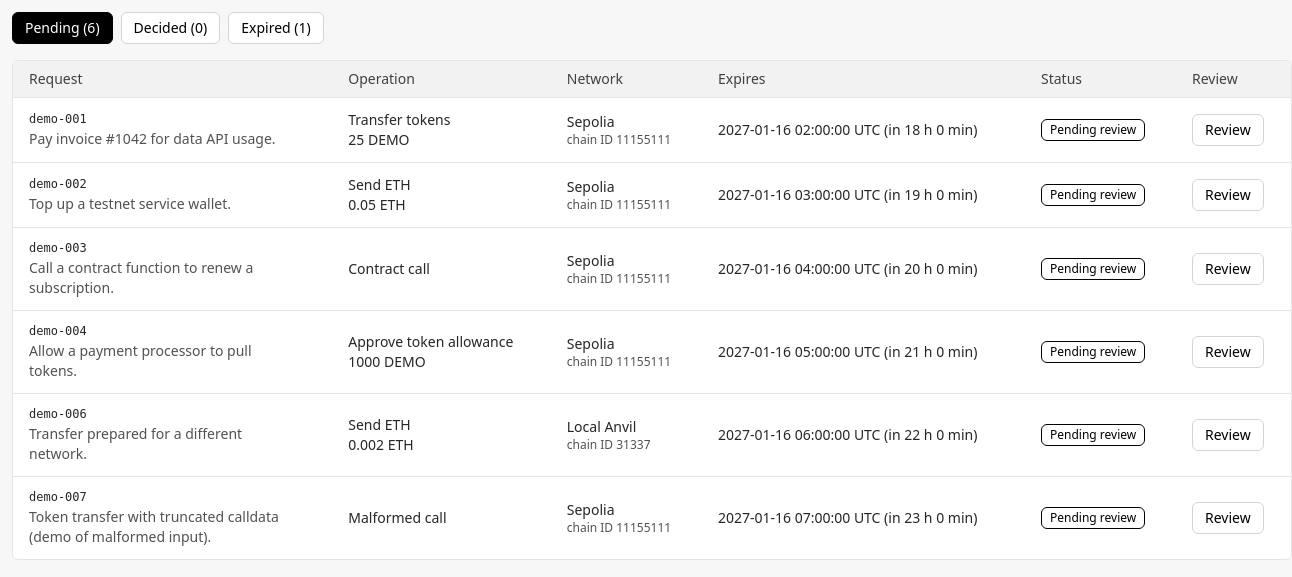
Test: ApprovalWorkspace queue › shows expired requests under the Expired filter
Click the button "Expired (1)" at (276, 28), box [228,12,324,44]
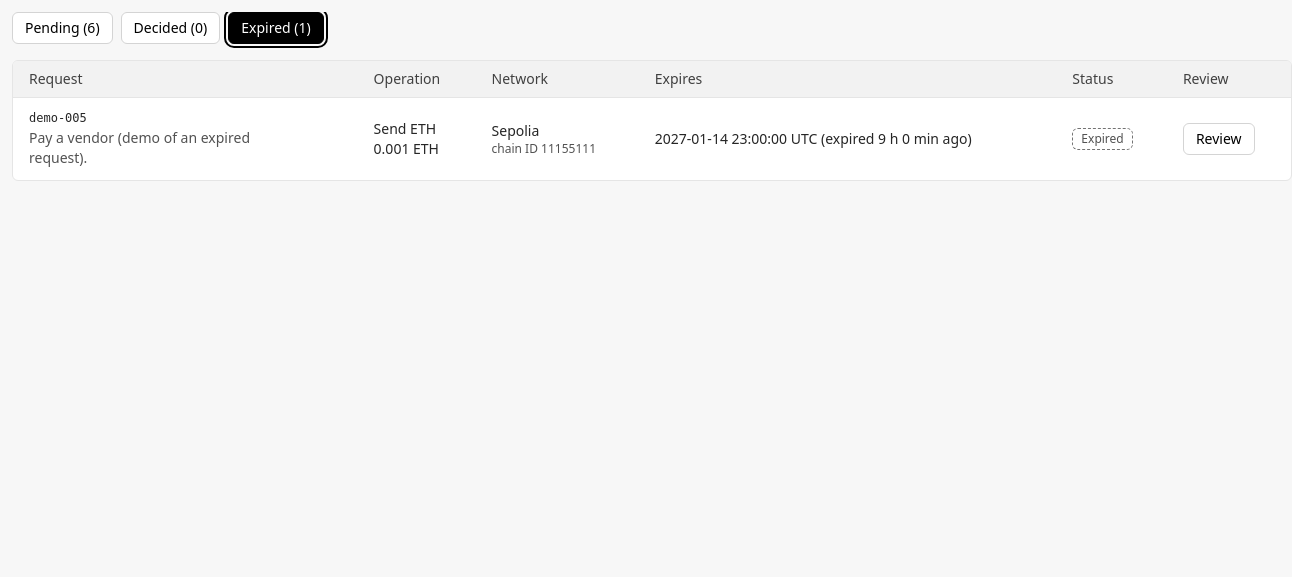
Check: the text "demo-005" is shown, box [29,111,87,125]
Check: the text "Expired" is shown, box [1072,128,1133,150]
